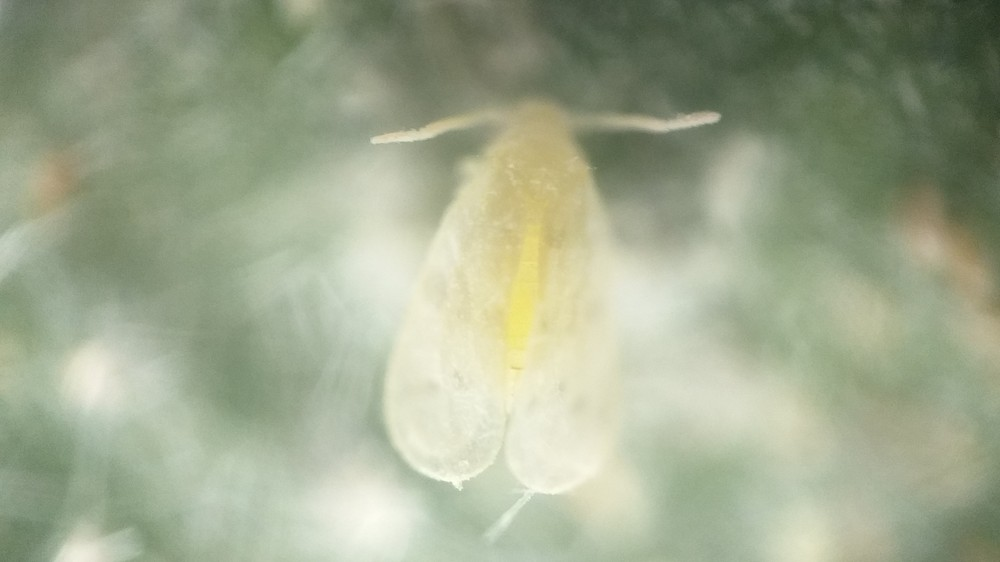Mosca Blanca: (346, 72, 730, 515)
